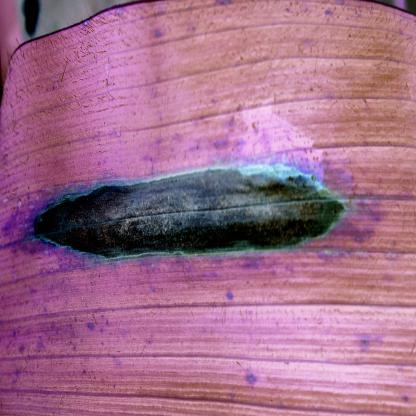corn leaf blight: (0, 23, 416, 396)
